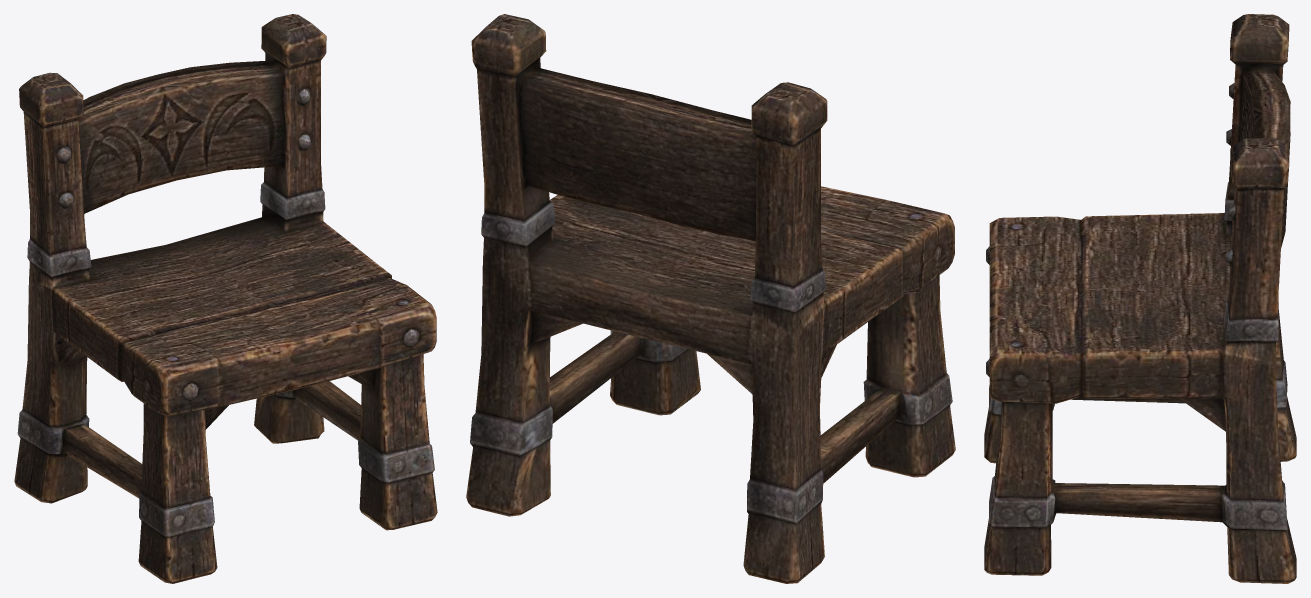
Rendered from prop_chair.glb.
The picture shows the model from 3 angles, left to right: view 1: azimuth 30°, elevation 25°; view 2: azimuth 150°, elevation 25°; view 3: azimuth 270°, elevation 25°; orthographic projection. The views are drawn at different scales.
Visible parts, largest first — view 1: tripo_node_d3c900f0-7034-4575-bfde-b841b8338044; view 2: tripo_node_d3c900f0-7034-4575-bfde-b841b8338044; view 3: tripo_node_d3c900f0-7034-4575-bfde-b841b8338044.
Part boxes in pixels (box(x1,y1,x2,y2)): tripo_node_d3c900f0-7034-4575-bfde-b841b8338044: box(14, 14, 437, 583); tripo_node_d3c900f0-7034-4575-bfde-b841b8338044: box(466, 14, 955, 583); tripo_node_d3c900f0-7034-4575-bfde-b841b8338044: box(984, 14, 1296, 583).
Bounding box in the file's own units: 0.7348 × 0.9995 × 0.6606.
Materials: 1 (1 with a texture image).
